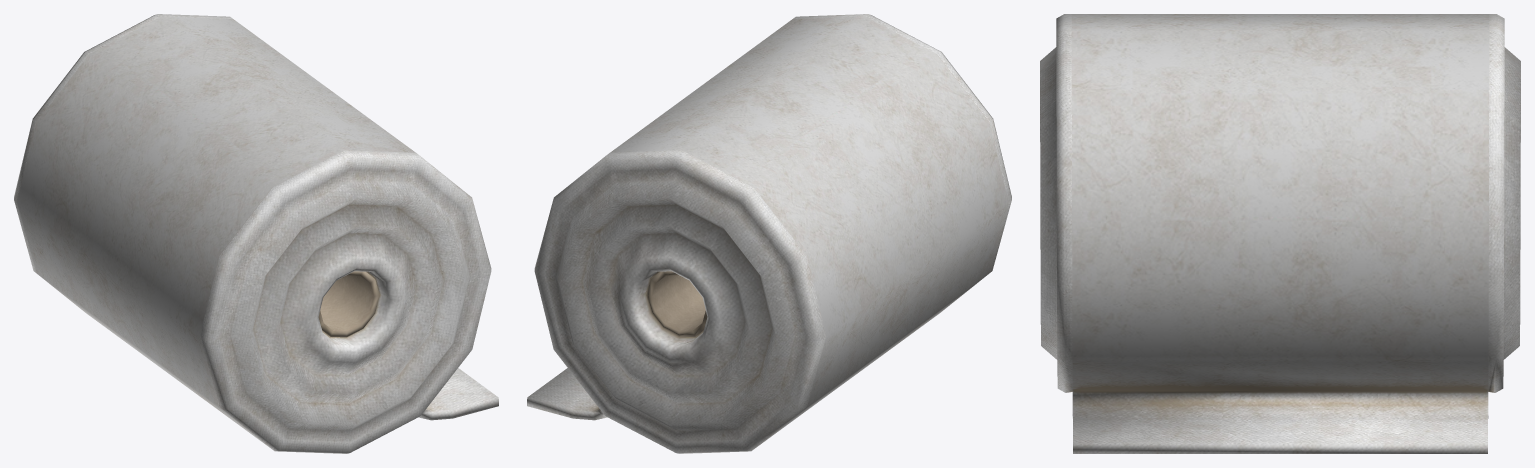
The model's file is Bandage.fbx.
The picture shows the model from 3 angles, left to right: view 1: azimuth 30°, elevation 25°; view 2: azimuth 150°, elevation 25°; view 3: azimuth 270°, elevation 25°; orthographic projection. The views are drawn at different scales.
Parts seen in each view (by area): view 1: bandage; view 2: bandage; view 3: bandage.
Part boxes in pixels (x1=…): bandage: x1=14, y1=14, x2=498, y2=453; bandage: x1=527, y1=14, x2=1011, y2=453; bandage: x1=1040, y1=14, x2=1520, y2=453.
Bounding box in the file's own units: 7.53 × 7.24 × 9.16.
Materials: 1 (1 with a texture image).
